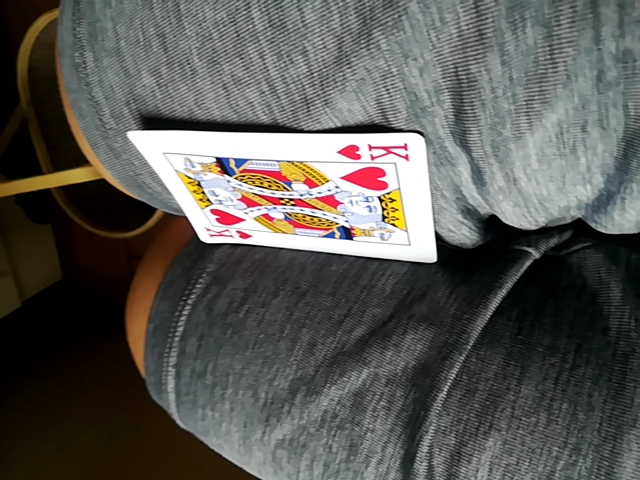hx k: (132, 127, 440, 259)
